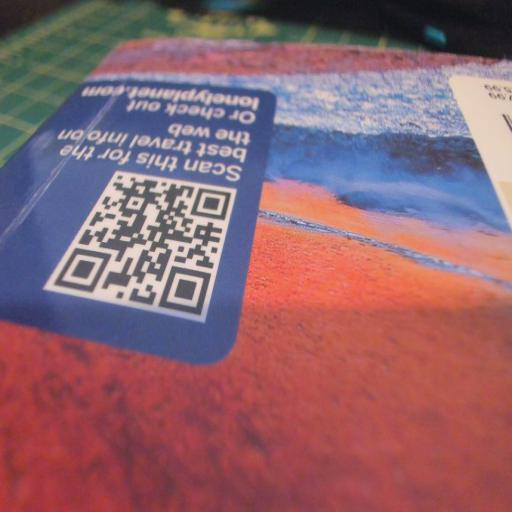QR_CODE: (50, 161, 238, 334)
